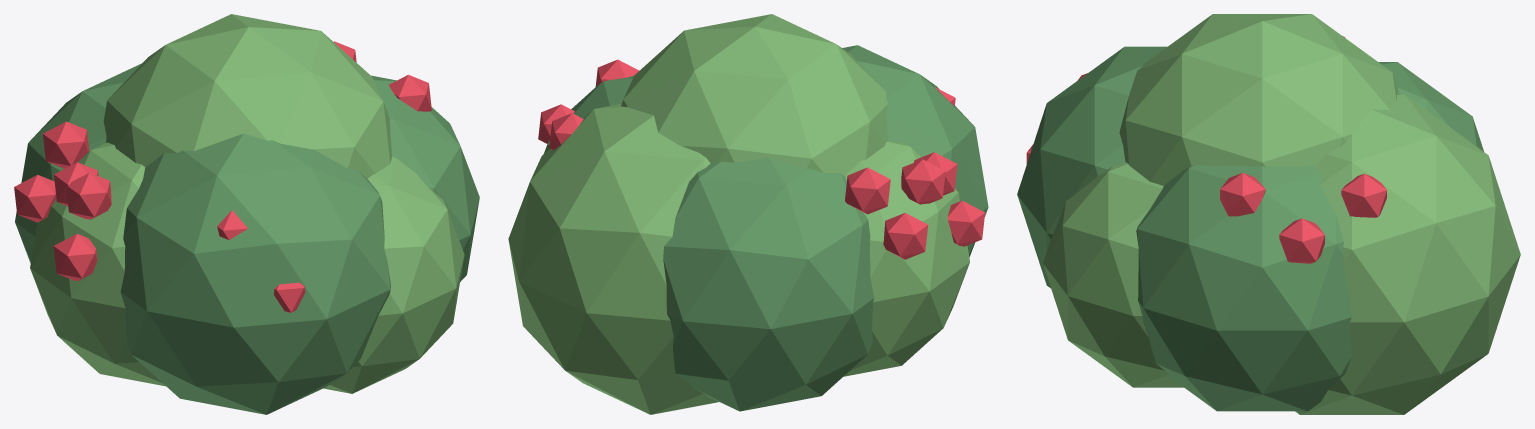
Rendered from HOB_Bush_Berry.fbx.
3 renders of one model, left to right at view 1: azimuth 30°, elevation 25°; view 2: azimuth 150°, elevation 25°; view 3: azimuth 270°, elevation 25°, orthographic. The views are drawn at different scales.
Parts seen in each view (by area): view 1: HOB_Bush_Berry; view 2: HOB_Bush_Berry; view 3: HOB_Bush_Berry.
Part boxes in pixels (x1,y1,x2,y2): HOB_Bush_Berry: (14, 14, 479, 414); HOB_Bush_Berry: (508, 14, 988, 414); HOB_Bush_Berry: (1017, 14, 1520, 414).
Size of the model in its own units: 128 by 105 by 132.
